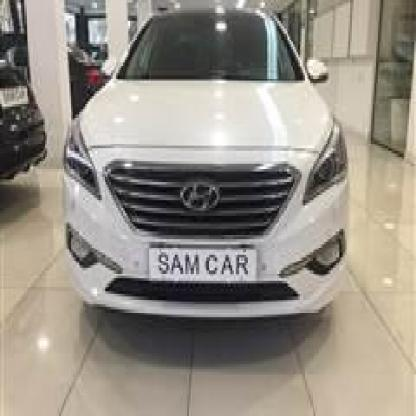Car: (69, 5, 354, 359), (0, 42, 108, 114), (0, 51, 43, 192)
